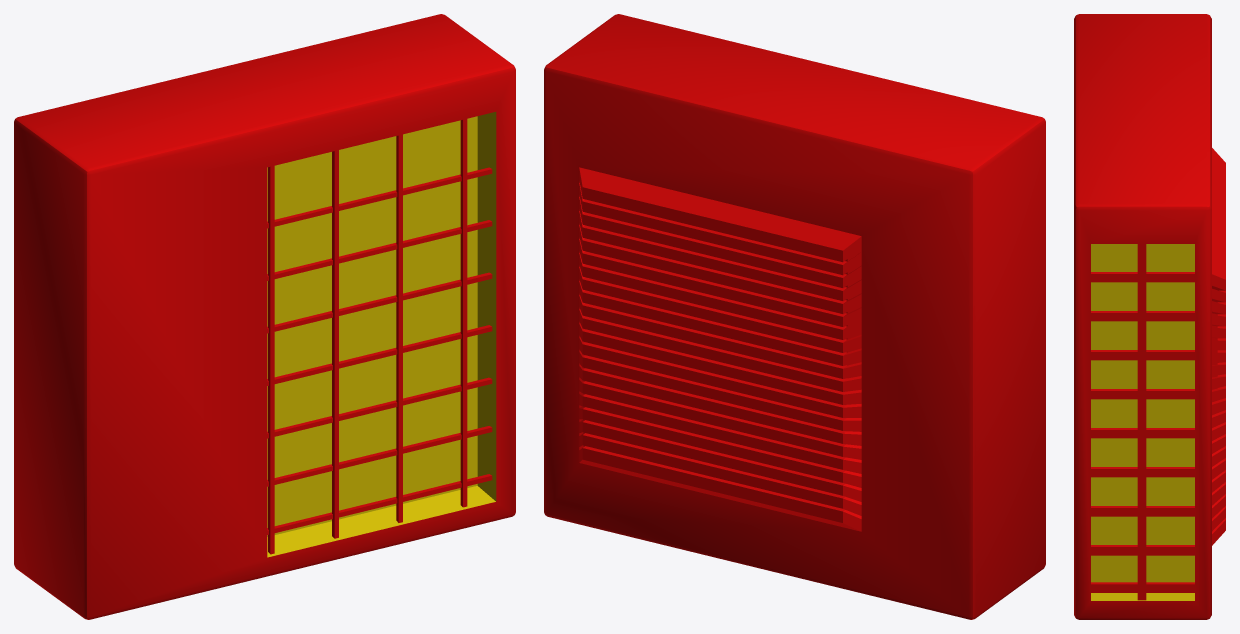
3 views of the same model, side by side, from view 1: azimuth 30°, elevation 25°; view 2: azimuth 150°, elevation 25°; view 3: azimuth 270°, elevation 25° (orthographic). The views are drawn at different scales.
Parts seen in each view (by area): view 1: OU_108; view 2: OU_108; view 3: OU_108.
Part boxes in pixels (x1,y1,x2,y2): OU_108: (14, 14, 515, 619); OU_108: (544, 14, 1045, 619); OU_108: (1074, 14, 1225, 619).
Size of the model in its own units: 39.37 by 39.37 by 13.02.
